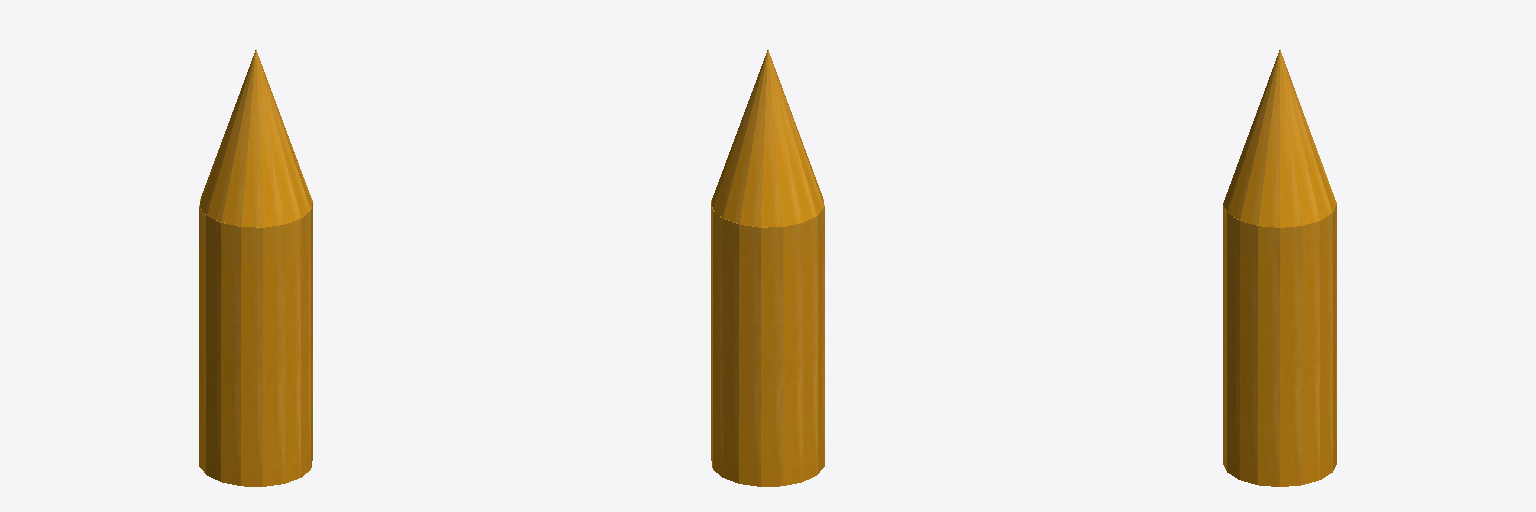
3 views of the same model, side by side, from view 1: azimuth 30°, elevation 25°; view 2: azimuth 150°, elevation 25°; view 3: azimuth 270°, elevation 25° (orthographic).
Parts seen in each view (by area): view 1: Cylinder_Cylinder.001, Cone; view 2: Cylinder_Cylinder.001, Cone; view 3: Cylinder_Cylinder.001, Cone.
Part boxes in pixels (x1,y1,x2,y2): Cylinder_Cylinder.001: (199,199,312,486); Cone: (200,50,311,227); Cylinder_Cylinder.001: (711,199,824,486); Cone: (712,50,823,227); Cylinder_Cylinder.001: (1223,202,1336,486); Cone: (1223,50,1336,227).
Bounding box in the file's own units: 0.2 × 0.7985 × 0.2.
1 materials, 1 textured.